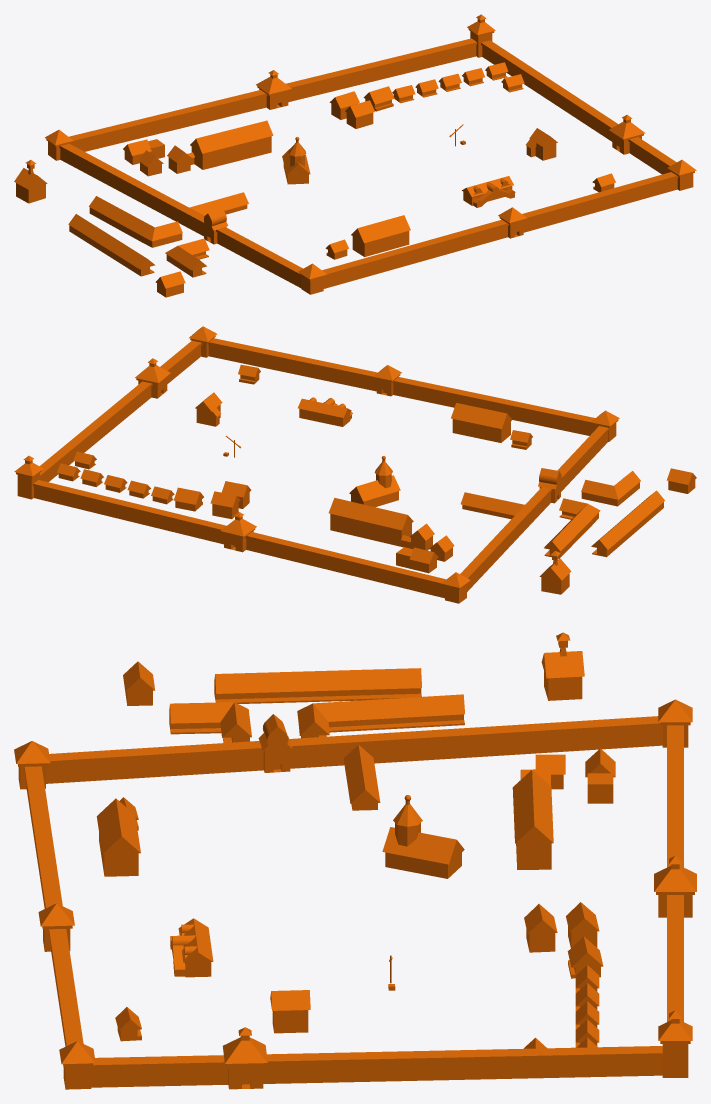
The picture shows the model from 3 angles, top to bottom: view 1: azimuth 30°, elevation 25°; view 2: azimuth 150°, elevation 25°; view 3: azimuth 270°, elevation 25°; orthographic projection. The views are drawn at different scales.
Visible parts, largest first — view 1: Cube.004, Cube.009, Cube.005, Cube.008, Cube.011, Cube.010, Cube.006, Cube.007, Cube.070, Cube.067, Cube.068, Cube.091 (+3 smaller); view 2: Cube.004, Cube.009, Cube.005, Cube.008, Cube.010, Cube.006, Cube.007, Cube.011, Cube.068, Cube.067, Cube.070, Cube.091 (+6 smaller); view 3: Cube.011, Cube.007, Cube.010, Cube.006, Cube.008, Cube.005, Cube.070, Cube.068, Cube.091, Cube.093, Cube.087, Cube.058 (+18 smaller).
Part boxes in pixels (x1,y1,x2,y2): Cube.004: [70, 45, 476, 151]; Cube.009: [323, 178, 677, 288]; Cube.005: [69, 38, 476, 143]; Cube.008: [322, 172, 678, 277]; Cube.011: [60, 149, 301, 287]; Cube.010: [59, 143, 303, 278]; Cube.006: [481, 40, 676, 167]; Cube.007: [482, 46, 670, 174]; Cube.070: [89, 196, 182, 241]; Cube.067: [191, 136, 271, 169]; Cube.068: [190, 120, 273, 153]; Cube.091: [351, 215, 410, 243]; Cube.004: [34, 486, 444, 598]; Cube.009: [208, 345, 594, 435]; Cube.005: [33, 480, 445, 586]; Cube.008: [208, 338, 595, 425]; Cube.010: [460, 426, 610, 578]; Cube.006: [40, 340, 202, 477]; Cube.007: [40, 346, 200, 482]; Cube.011: [467, 431, 608, 591]; Cube.068: [328, 497, 413, 530]; Cube.067: [330, 513, 411, 546]; Cube.070: [544, 498, 600, 551]; Cube.091: [451, 403, 512, 428]; Cube.011: [46, 727, 662, 783]; Cube.007: [91, 1057, 662, 1087]; Cube.010: [48, 716, 662, 765]; Cube.006: [91, 1046, 662, 1068]; Cube.008: [24, 766, 83, 1046]; Cube.005: [667, 725, 683, 1021]; Cube.070: [297, 694, 464, 735]; Cube.068: [512, 770, 553, 843]; Cube.091: [96, 798, 140, 854]; Cube.093: [382, 827, 464, 864]; Cube.087: [343, 744, 380, 803]; Cube.058: [328, 714, 464, 732].
Size of what is drawn, in the model's own units: 112 by 8.75 by 79.42.
